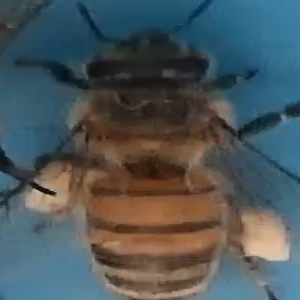bee: (30, 22, 298, 300)
